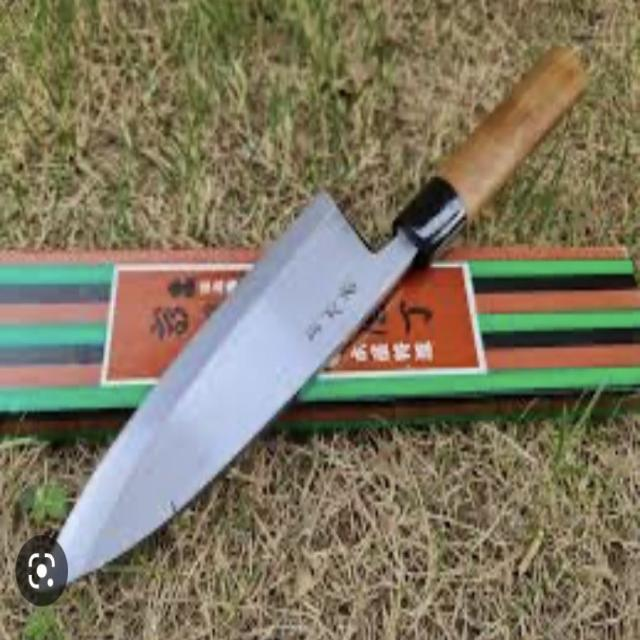Knife: (53, 21, 613, 609)
